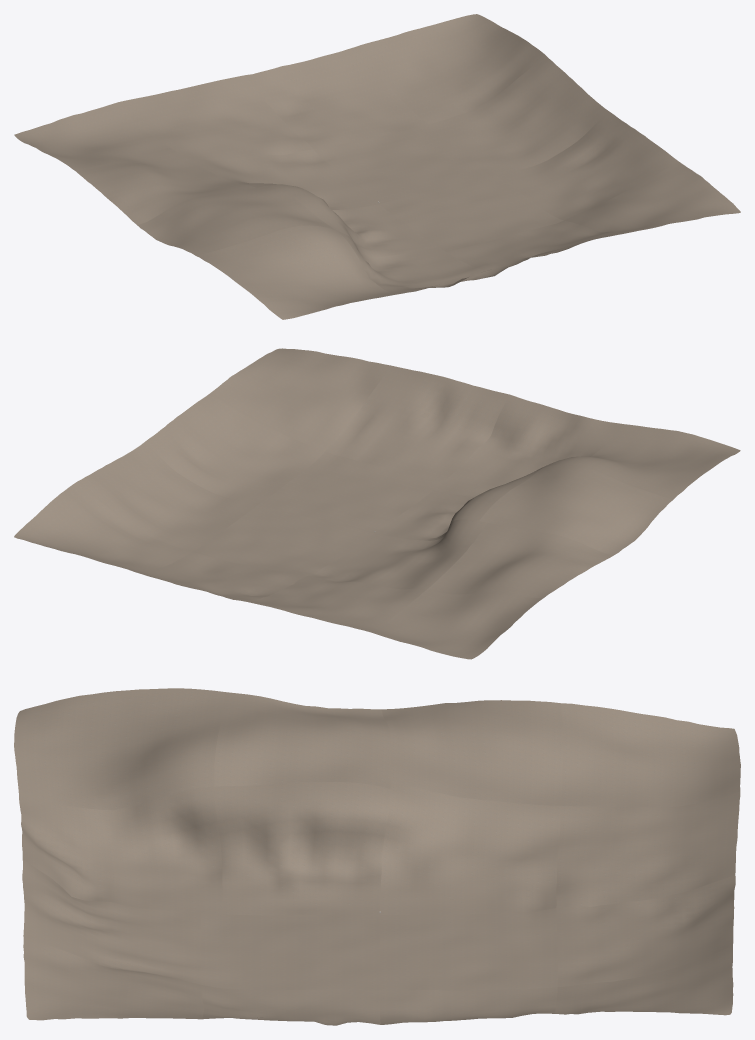
Rendered from map.glb.
The picture shows the model from 3 angles, top to bottom: view 1: azimuth 30°, elevation 25°; view 2: azimuth 150°, elevation 25°; view 3: azimuth 270°, elevation 25°; orthographic projection. The views are drawn at different scales.
Parts seen in each view (by area): view 1: plane_4, plane_8, plane_3, plane_13, plane_2, plane_12, plane_7, plane_11, plane_9, plane_1, plane_16, plane_5 (+4 smaller); view 2: plane_15, plane_16, plane_12, plane_9, plane_8, plane_14, plane_5, plane_11, plane_7, plane_4, plane_1, plane_13 (+4 smaller); view 3: plane_10, plane_13, plane_6, plane_14, plane_2, plane_5, plane_1, plane_9, plane_7, plane_11, plane_3, plane_15 (+4 smaller).
Boxes of the visible parts, x1,y1,x2,y2 form: plane_4: [361, 14, 544, 124]; plane_8: [428, 54, 609, 174]; plane_3: [245, 45, 427, 149]; plane_13: [196, 225, 400, 319]; plane_2: [119, 75, 312, 160]; plane_12: [496, 111, 678, 220]; plane_7: [314, 124, 495, 203]; plane_11: [379, 175, 563, 251]; plane_9: [137, 186, 334, 255]; plane_1: [14, 102, 188, 168]; plane_16: [564, 162, 740, 232]; plane_5: [72, 160, 256, 225]; plane_15: [325, 365, 509, 482]; plane_16: [210, 348, 390, 450]; plane_12: [144, 393, 324, 504]; plane_9: [479, 464, 672, 554]; plane_8: [77, 443, 257, 551]; plane_14: [434, 394, 623, 497]; plane_5: [427, 523, 613, 597]; plane_11: [258, 451, 441, 533]; plane_7: [193, 505, 373, 575]; plane_4: [14, 481, 191, 570]; plane_1: [364, 589, 543, 659]; plane_13: [543, 424, 740, 499]; plane_10: [214, 781, 390, 915]; plane_13: [14, 688, 225, 810]; plane_6: [379, 782, 560, 914]; plane_14: [18, 786, 223, 913]; plane_2: [556, 791, 740, 907]; plane_5: [381, 700, 562, 805]; plane_1: [560, 703, 740, 807]; plane_9: [214, 692, 390, 788]; plane_7: [379, 908, 558, 990]; plane_11: [200, 913, 380, 990]; plane_3: [556, 875, 735, 986]; plane_15: [22, 860, 200, 984].
Size of the model in its own units: 1626 by 194 by 1624.
Materials: 1 (1 with a texture image).
